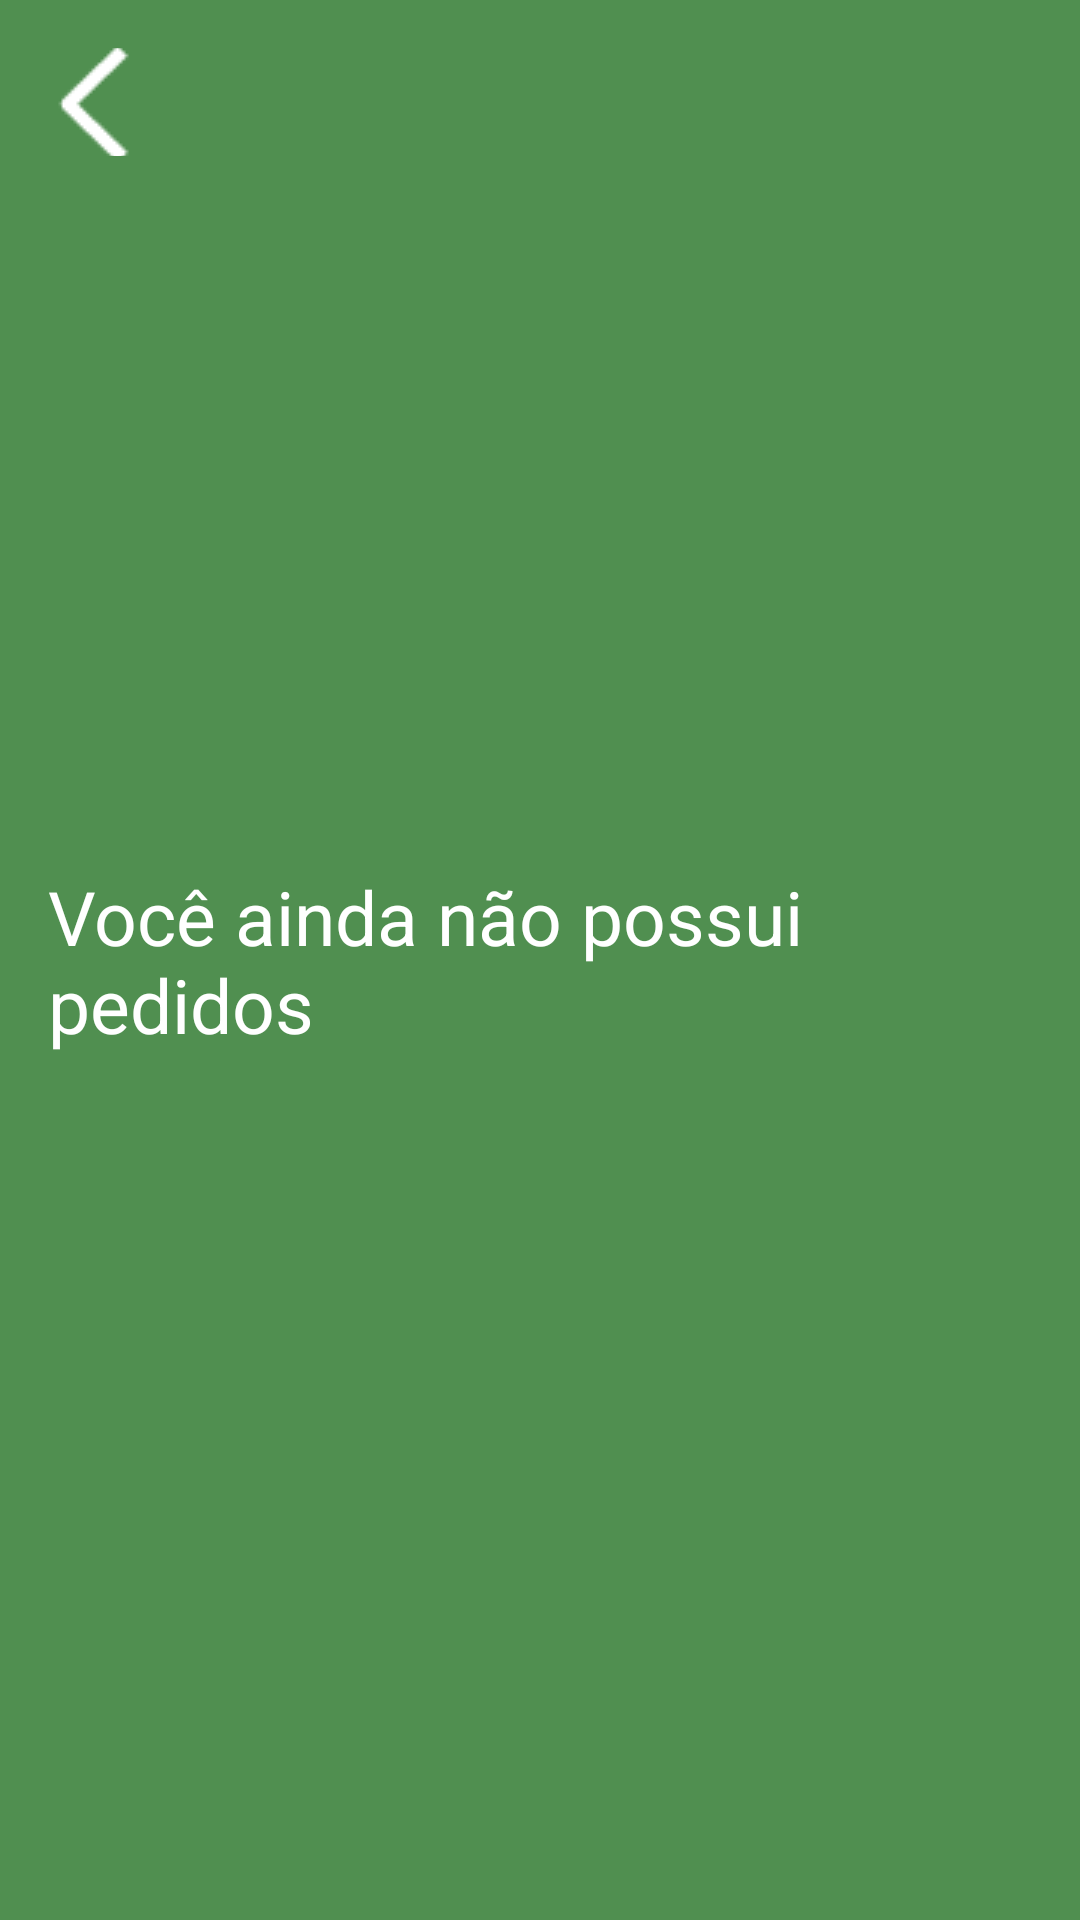

Icon click points for this 1080px×1920px phone screenshot, format [x,y]:
Voltar: [94,102]
